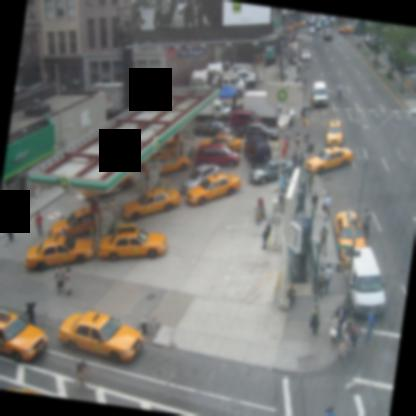backpack: (325, 408, 329, 415), (10, 222, 13, 230)
handbag: (309, 314, 316, 328), (329, 327, 338, 337), (338, 341, 345, 352), (351, 325, 356, 335), (328, 207, 331, 219), (310, 206, 315, 211), (322, 205, 325, 210)
